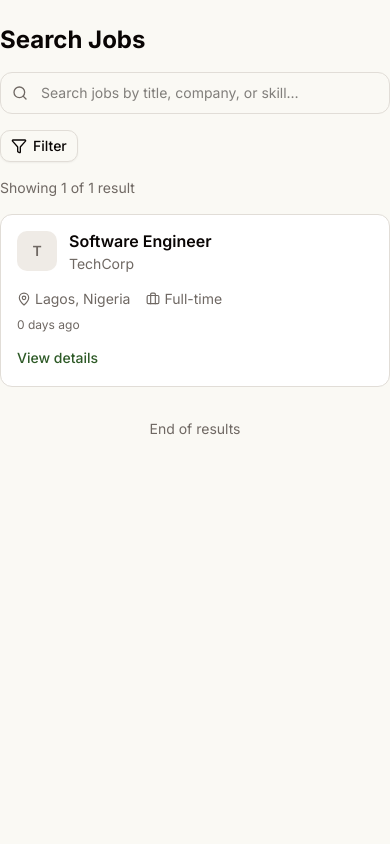
JobSearchPageContent — filter bar (VS-2) › opens filter sheet on mobile filter button click
Step 1. Click the button with test id "open-filters-button" → click(39, 146), box [0, 130, 78, 162]
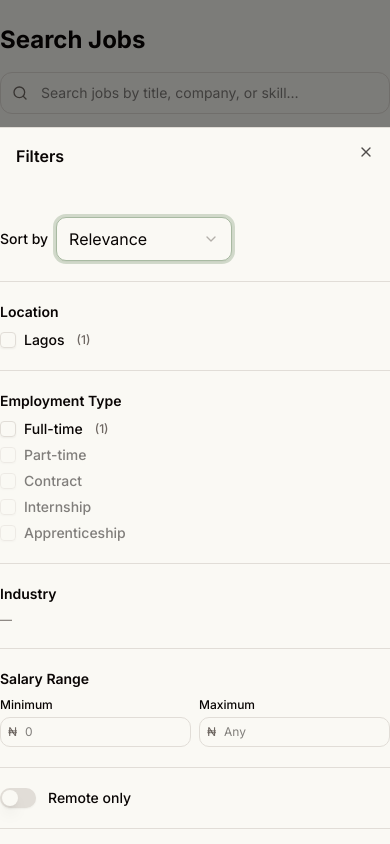
Check: the dialog with test id "filter-sheet" is shown
